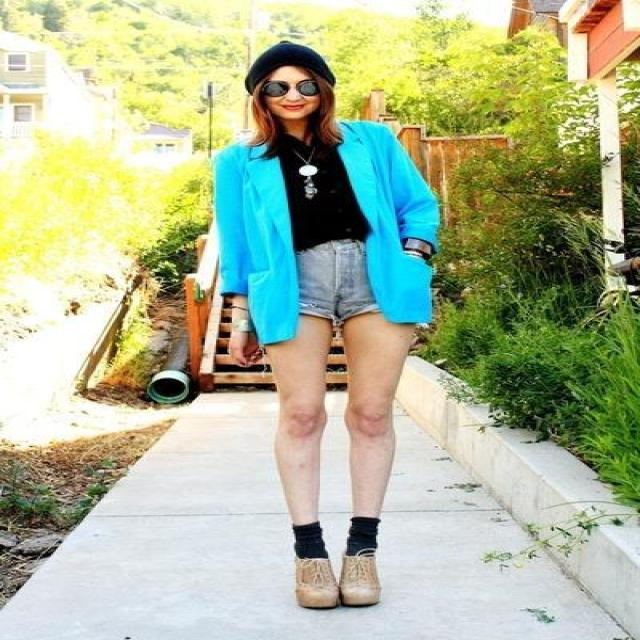hat: (250, 43, 326, 110)
jacket: (214, 120, 438, 344)
shirt: (280, 143, 370, 268)
shoe: (294, 554, 380, 611)
shorts: (300, 243, 382, 336)
